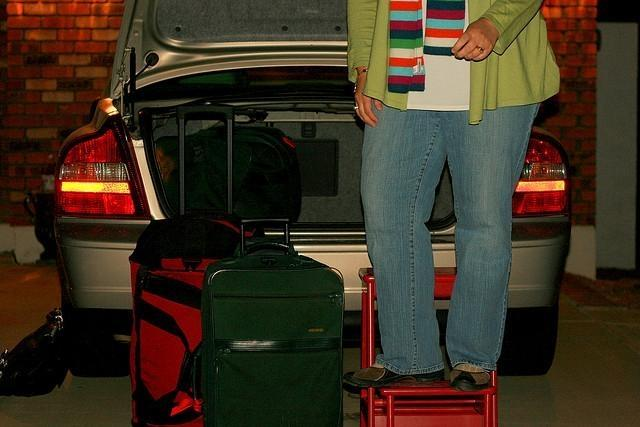car: (51, 0, 574, 377)
